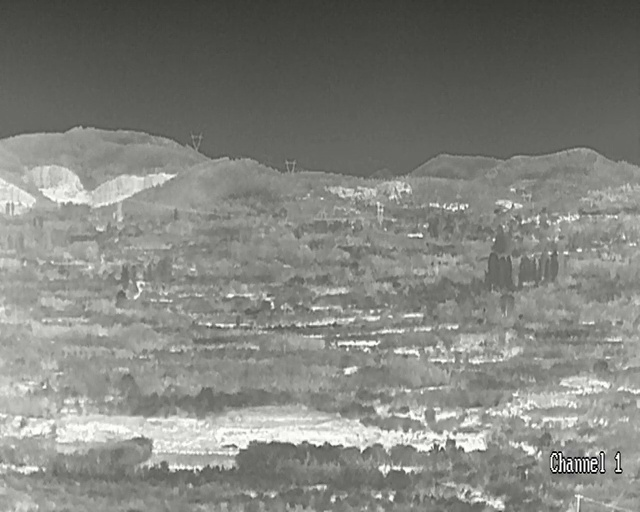uav: (162, 173, 173, 178)
